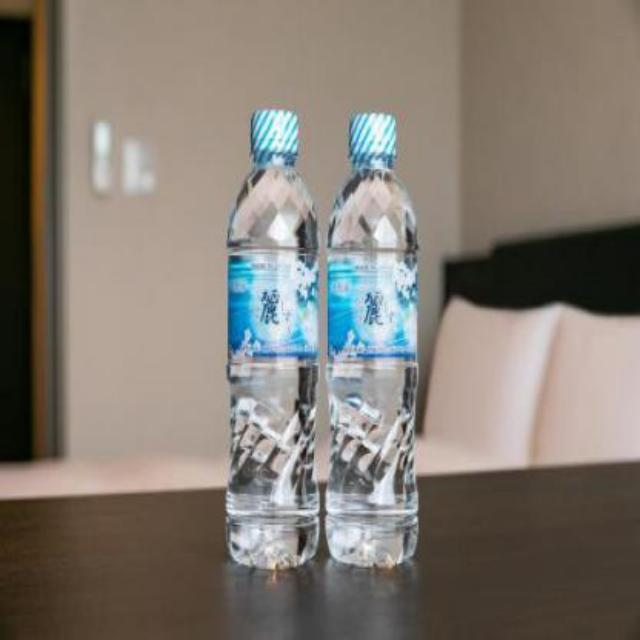bottle: (218, 100, 324, 576), (319, 100, 423, 574)
